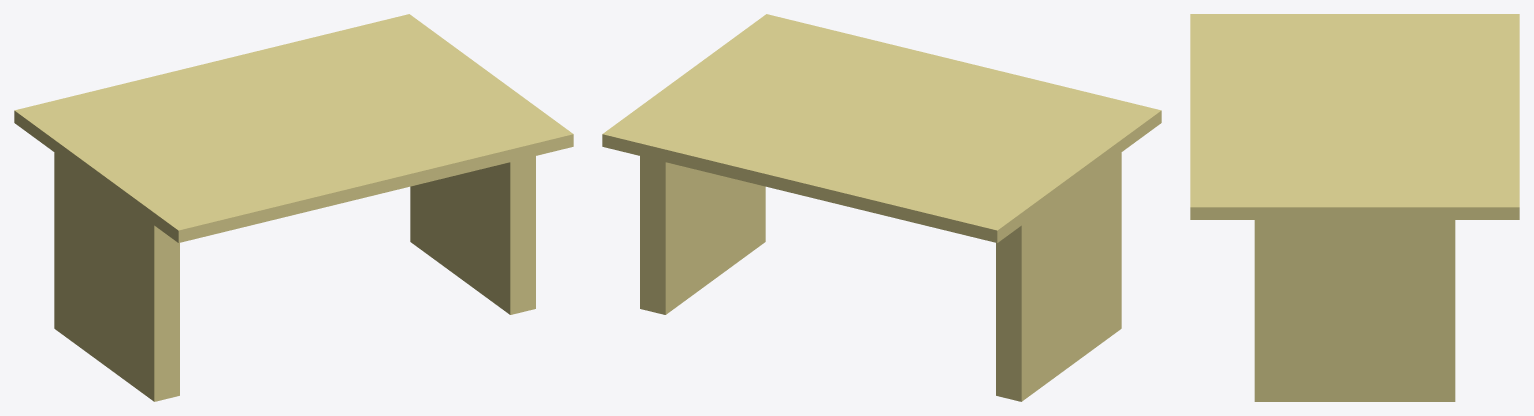
The model's file is table.glb.
The picture shows the model from 3 angles, left to right: view 1: azimuth 30°, elevation 25°; view 2: azimuth 150°, elevation 25°; view 3: azimuth 270°, elevation 25°; orthographic projection.
Parts seen in each view (by area): view 1: Cube.002, Cube, Cube.001; view 2: Cube.002, Cube, Cube.001; view 3: Cube.002, Cube.001.
Boxes of the visible parts, left/top/right/bottom form: Cube.002: left=14, top=14, right=573, bottom=242; Cube: left=54, top=152, right=179, bottom=401; Cube.001: left=410, top=156, right=535, bottom=314; Cube.002: left=602, top=14, right=1161, bottom=242; Cube: left=996, top=152, right=1121, bottom=401; Cube.001: left=640, top=156, right=765, bottom=314; Cube.002: left=1190, top=14, right=1519, bottom=219; Cube.001: left=1254, top=220, right=1455, bottom=401.
Bounding box in the file's own units: 4.37 × 2.08 × 3.15.
